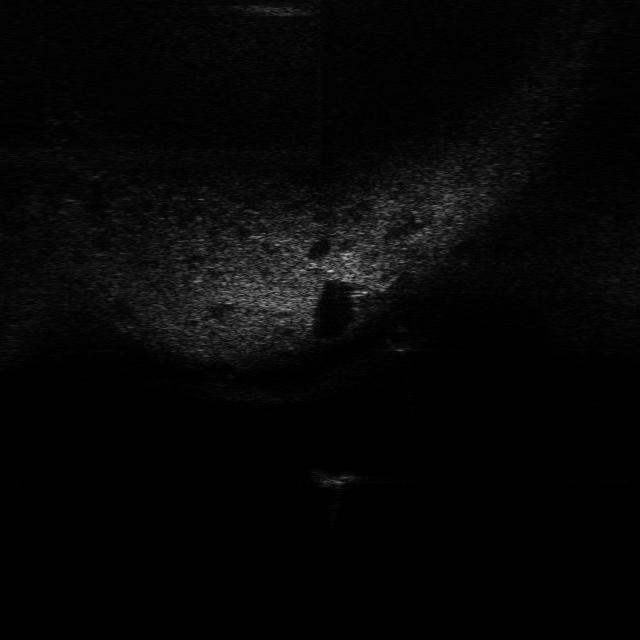ball: (382, 326, 418, 355)
cube: (310, 467, 364, 493)
